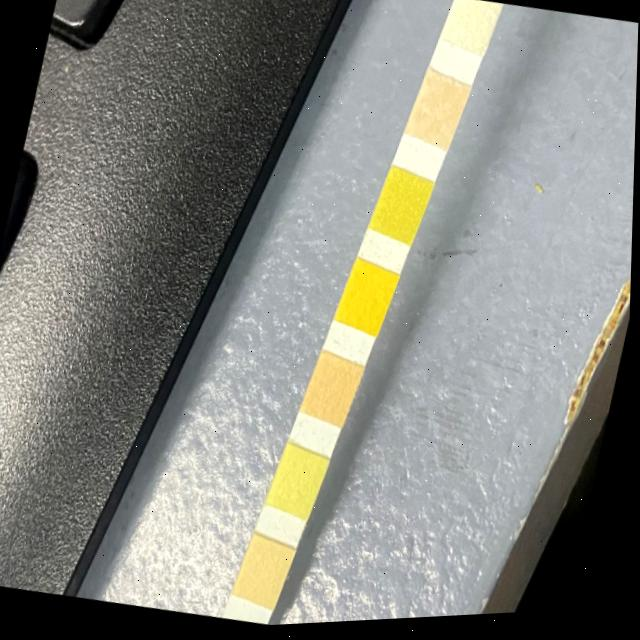Bilirubin: (447, 1, 494, 55)
Blood: (342, 268, 393, 335)
Ketone: (411, 79, 463, 148)
Protein: (274, 451, 327, 519)
SpGravity: (375, 176, 427, 243)
Urobilinogen: (241, 542, 293, 609)
pH: (308, 360, 358, 424)
